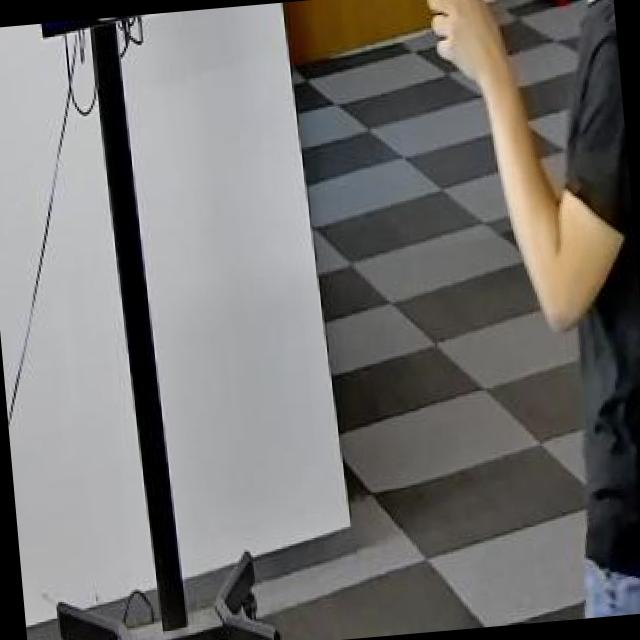Guns: (360, 0, 513, 61)
